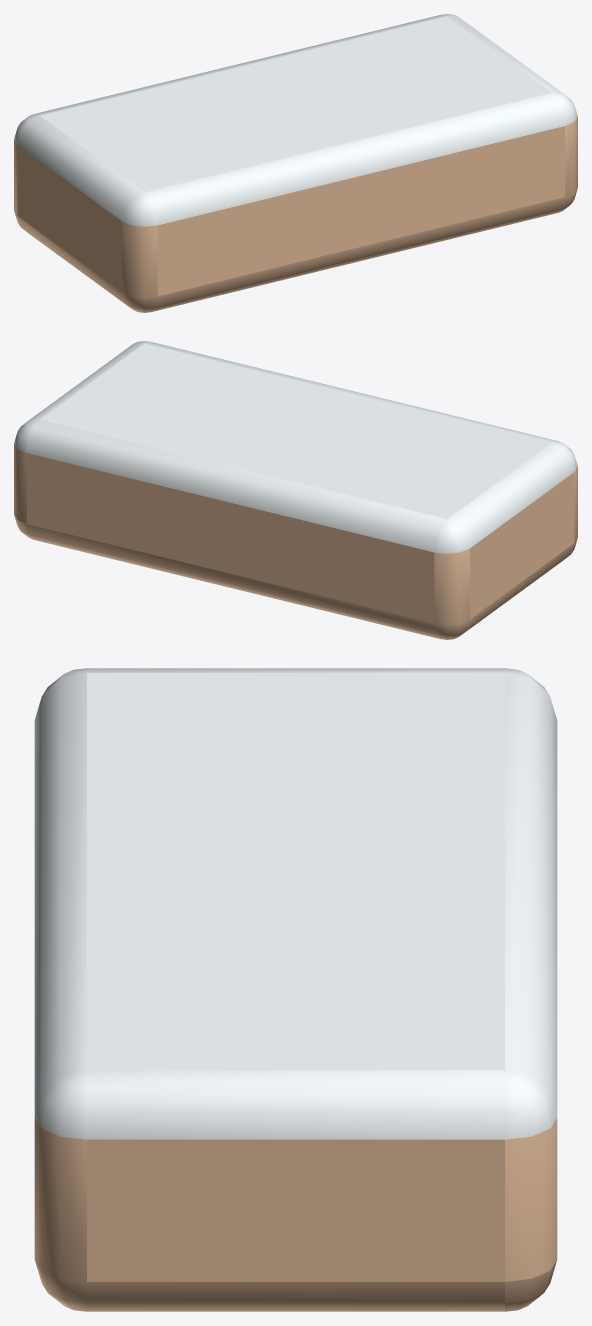
3 renders of one model, top to bottom at view 1: azimuth 30°, elevation 25°; view 2: azimuth 150°, elevation 25°; view 3: azimuth 270°, elevation 25°, orthographic. The views are drawn at different scales.
Visible parts, largest first — view 1: blockSnowRoundedLowLong; view 2: blockSnowRoundedLowLong; view 3: blockSnowRoundedLowLong.
Part boxes in pixels (x1=…): blockSnowRoundedLowLong: x1=14, y1=14, x2=577, y2=312; blockSnowRoundedLowLong: x1=14, y1=341, x2=577, y2=639; blockSnowRoundedLowLong: x1=34, y1=668, x2=557, y2=1311.
Size of the model in its own units: 2 by 0.5 by 1.
